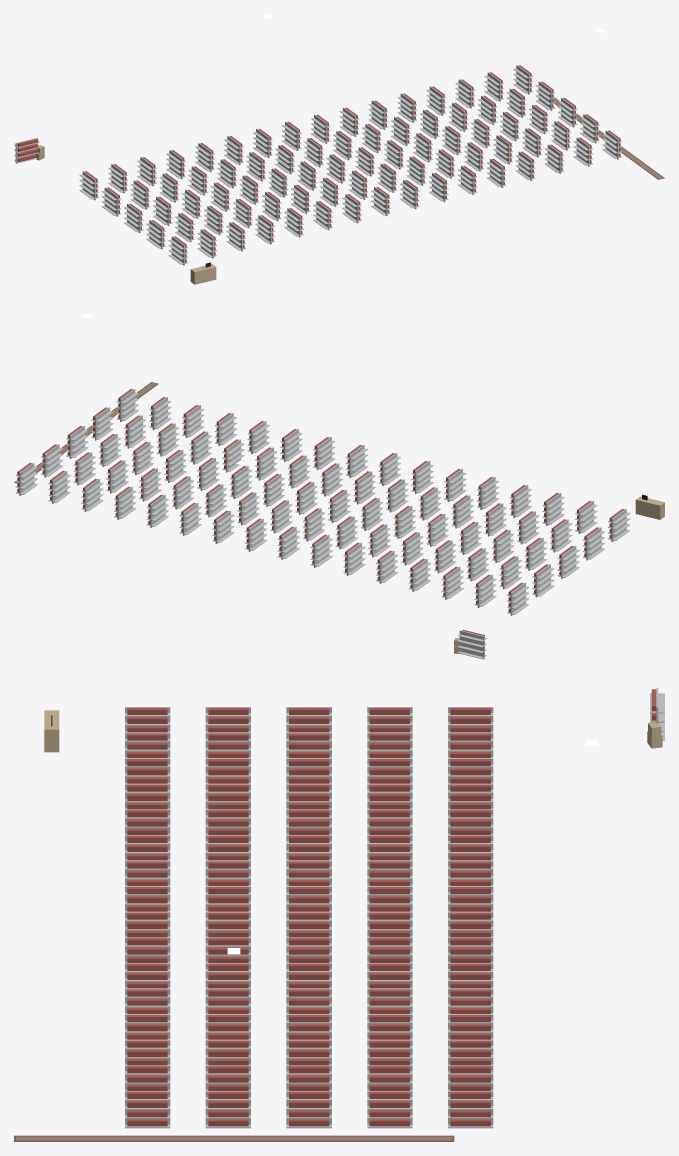
The model's file is fine-s0.glb.
3 views of the same model, one above another, from view 1: azimuth 30°, elevation 25°; view 2: azimuth 150°, elevation 25°; view 3: azimuth 270°, elevation 25° (orthographic). The views are drawn at different scales.
Visible parts, largest first — view 1: shelving.000, shop-counter.000, soft-s0, shelf.079, shelf.006, shelf.016, shelf.041, shelf.058, shelf.008, shelf.011, shelf.013, shelf.026 (+52 smaller); view 2: shelving.000, shop-counter.000, shelf.018, shelf.038, shelf.071, shelf.011, shelf.023, shelf.031, shelf.043, shelf.046, shelf.051, shelf.066 (+69 smaller); view 3: soft-s0, shelf.076, shelf.077, shelf.075, shelf.078, shelf.079, shelf.016, shelf.017, shelf.041, shelf.042, shelf.066, shelf.067 (+70 smaller).
Part boxes in pixels (box(x1,y1,x2,y2)): shelving.000: box(14, 138, 39, 163); shop-counter.000: box(190, 262, 216, 284); soft-s0: box(553, 98, 664, 179); shelf.079: box(602, 130, 621, 159); shelf.006: box(130, 180, 150, 209); shelf.016: box(188, 166, 208, 195); shelf.041: box(333, 131, 352, 160); shelf.058: box(464, 142, 483, 171); shelf.008: box(175, 213, 194, 242); shelf.011: box(159, 173, 179, 202); shelf.013: box(204, 206, 223, 235); shelf.026: box(246, 152, 265, 181); shelving.000: box(457, 629, 486, 659); shop-counter.000: box(635, 494, 664, 519); shelf.018: box(484, 503, 506, 536); shelf.038: box(353, 471, 375, 504); shelf.071: box(73, 452, 95, 485); shelf.011: box(466, 548, 488, 581); shelf.023: box(451, 495, 473, 528); shelf.031: box(335, 516, 357, 549); shelf.043: box(320, 463, 342, 496); shelf.046: box(237, 492, 259, 525); shelf.051: box(204, 484, 226, 517); shelf.066: box(106, 460, 128, 493); soft-s0: box(14, 1135, 454, 1141); shelf.076: box(367, 1091, 412, 1128); shelf.077: box(286, 1091, 331, 1128); shelf.075: box(448, 1091, 493, 1128); shelf.078: box(205, 1091, 250, 1128); shelf.079: box(125, 1091, 170, 1128); shelf.016: box(367, 783, 412, 809); shelf.017: box(286, 783, 331, 809); shelf.041: box(367, 911, 412, 937); shelf.042: box(286, 911, 331, 937); shelf.066: box(367, 1039, 412, 1065); shelf.067: box(286, 1039, 331, 1065).
Size of the model in its own units: 39.12 by 8.23 by 25.79.
